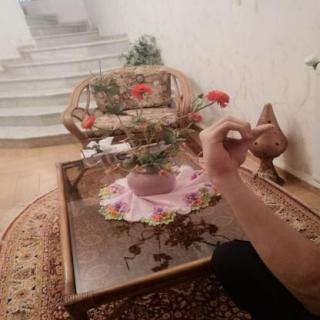WAW: (191, 110, 283, 183)
